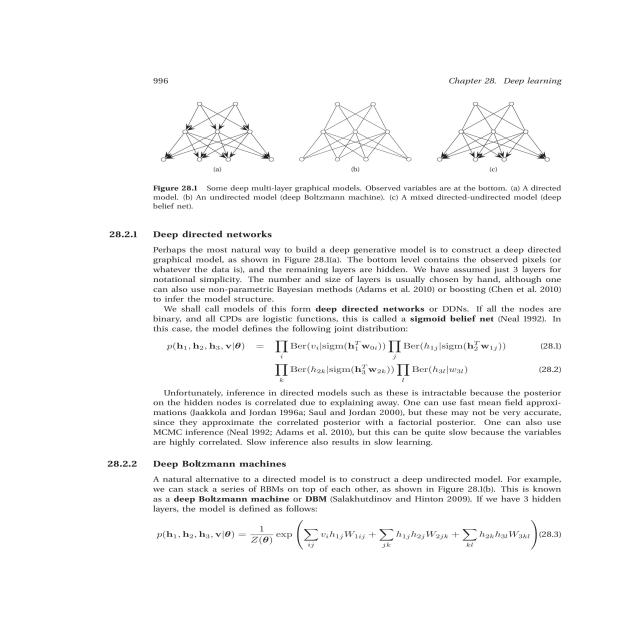diagram: (73, 88, 640, 212)
